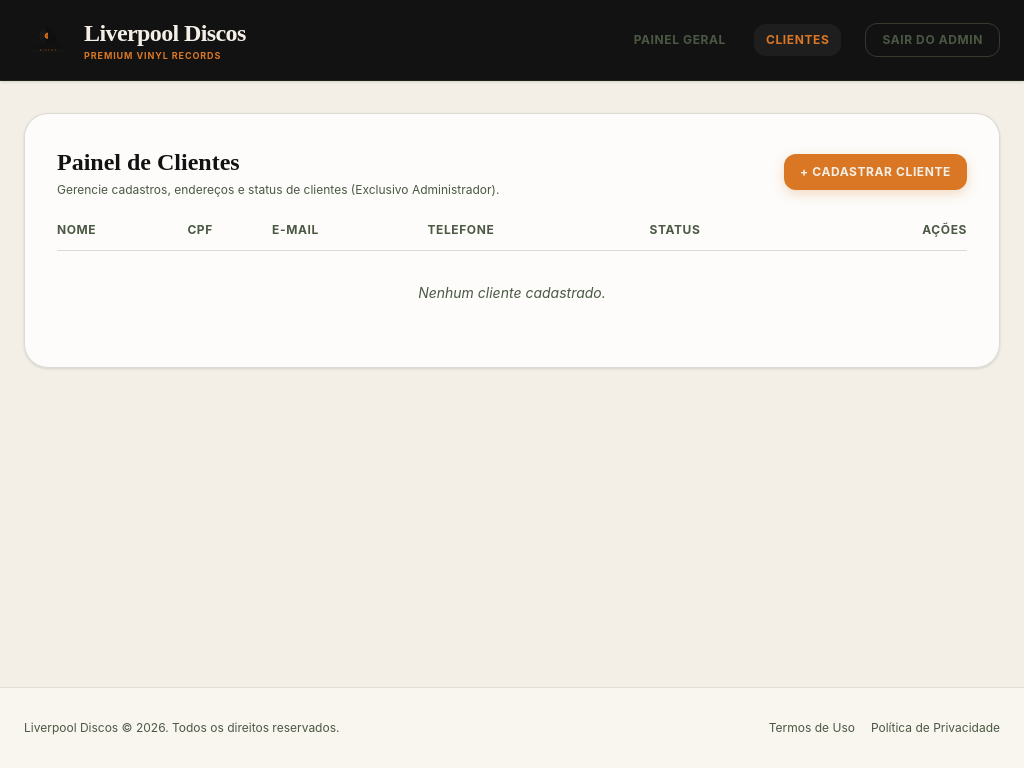
it: Customer CRUD - Painel de Clientes › Input Masking › should apply masks to CPF, phone, CEP, and card number in real-time
Click the button with test id "btn-new-customer" at (876, 172), box [784, 154, 967, 190]
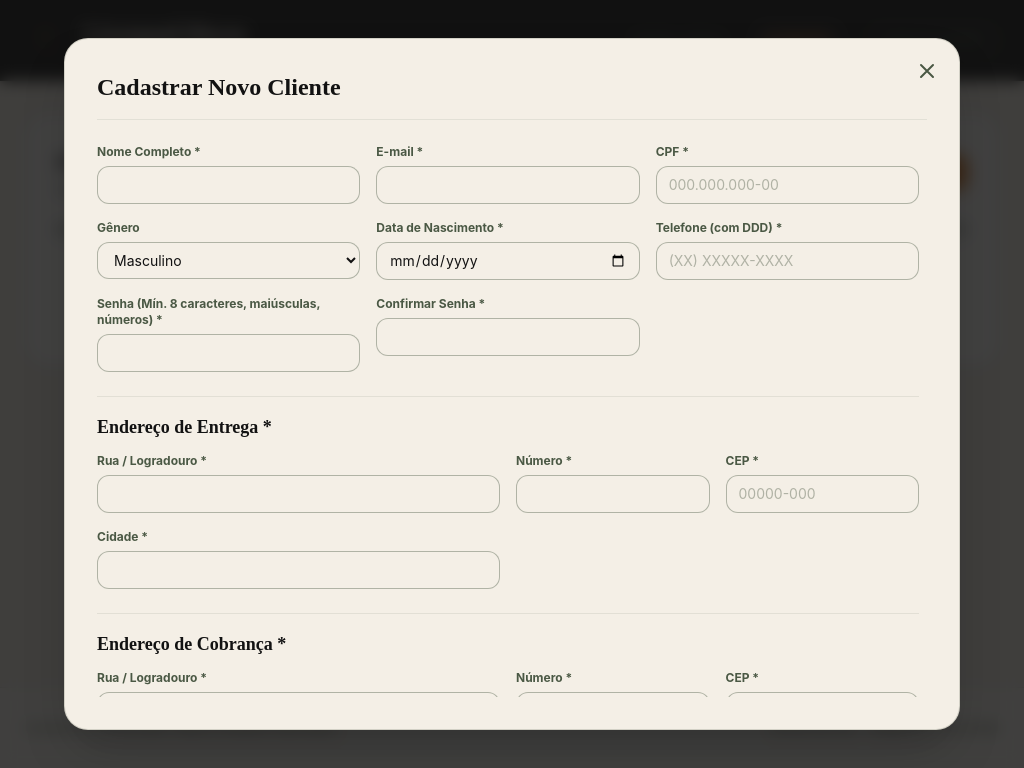
Expected: the field with test id "input-cpf" is shown
Type "12345678900" into the field with test id "input-cpf" at (788, 185), box [656, 166, 919, 204]
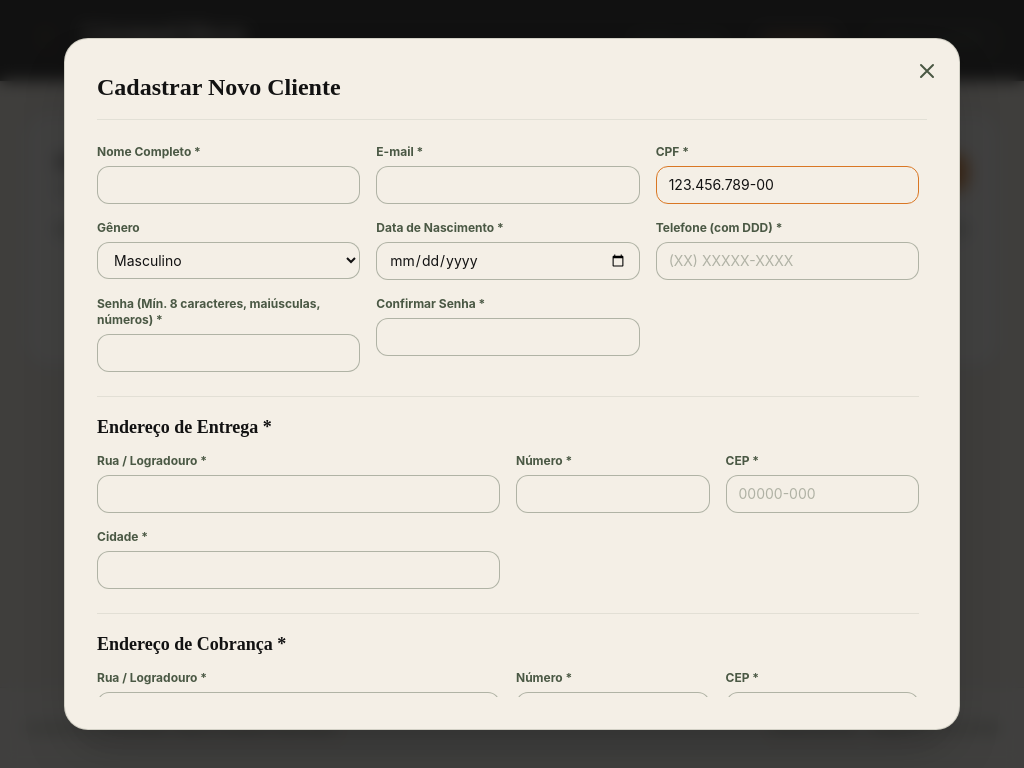
Expected: the field with test id "input-cpf" holds "123.456.789-00", [656, 166, 919, 204]
Type "11987654321" into the field with test id "input-phone" at (788, 261), box [656, 242, 919, 280]
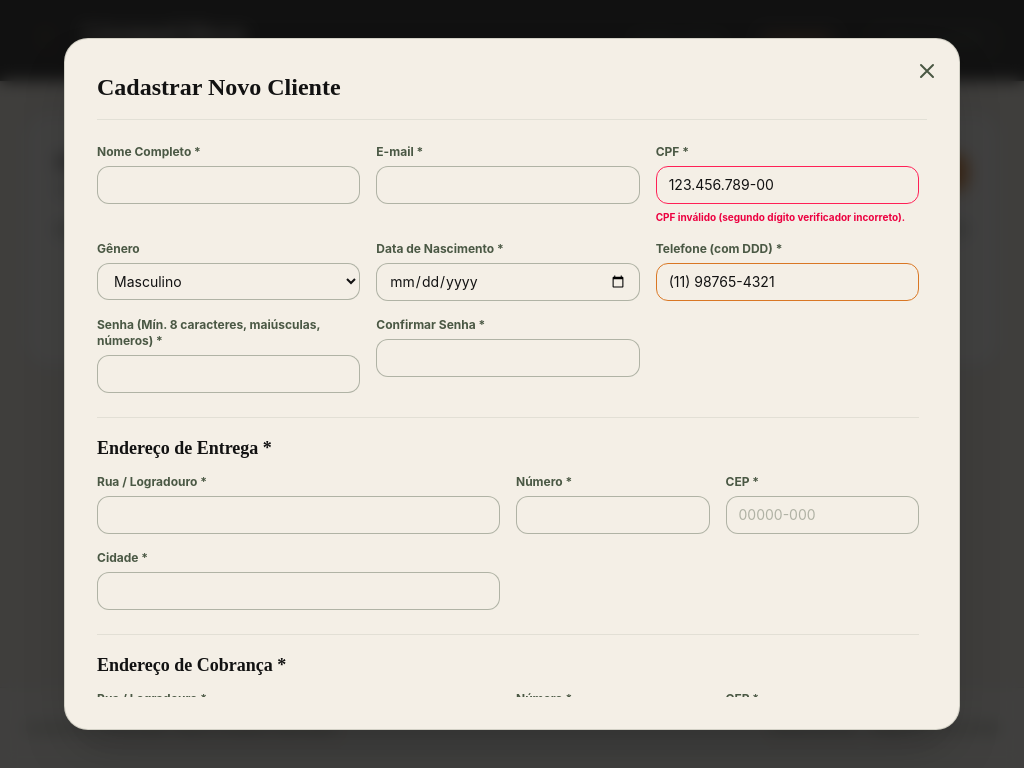
Expected: the field with test id "input-phone" holds "(11) 98765-4321", [656, 263, 919, 301]
Type "01310100" into the field with test id "input-deliv-cep" at (823, 515), box [726, 496, 920, 534]
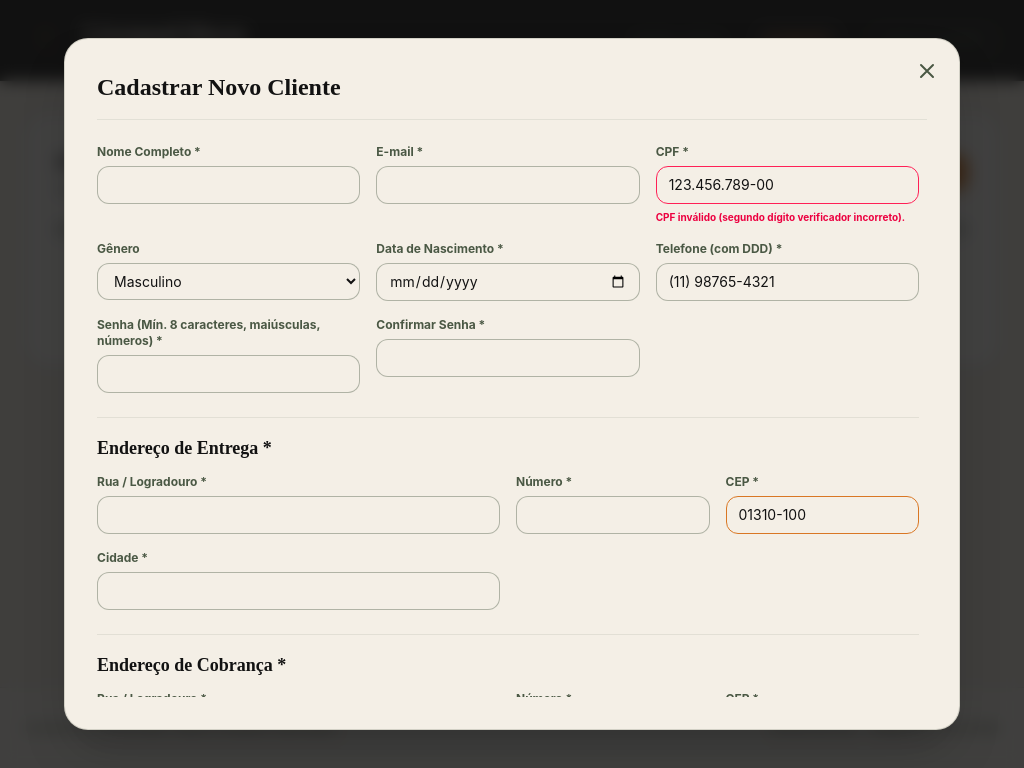
Expected: the field with test id "input-deliv-cep" holds "01310-100", [726, 496, 920, 534]
Scroll
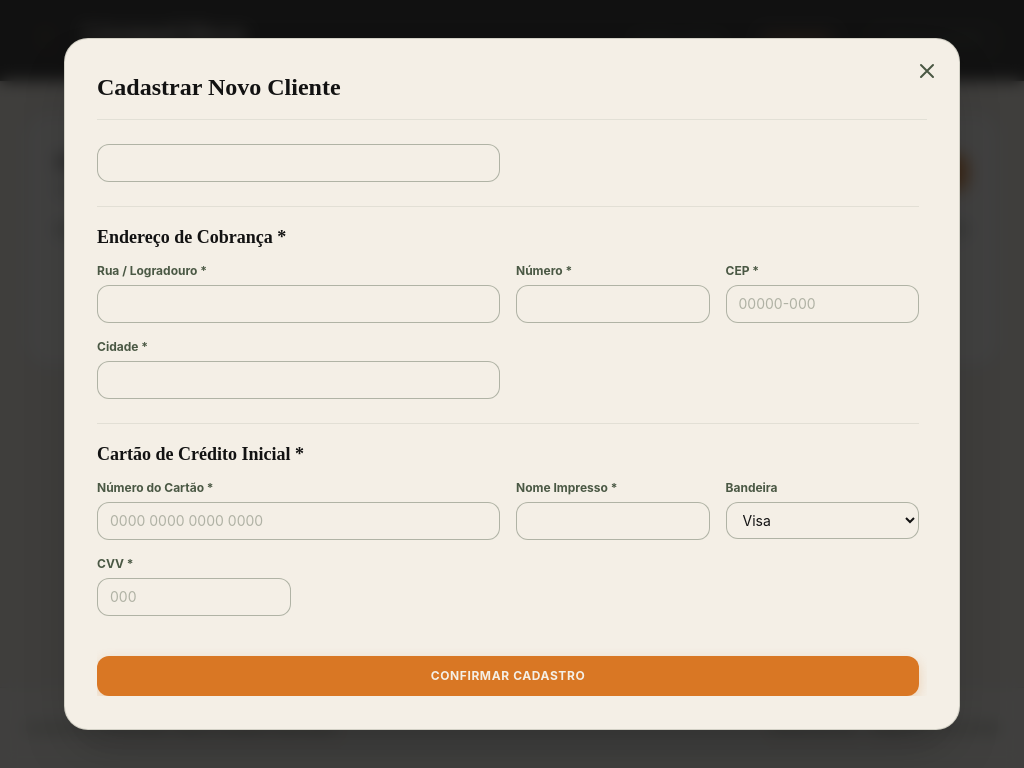
Type "4111111111111111" into the field with test id "input-card-number" at (299, 521), box [97, 502, 500, 540]
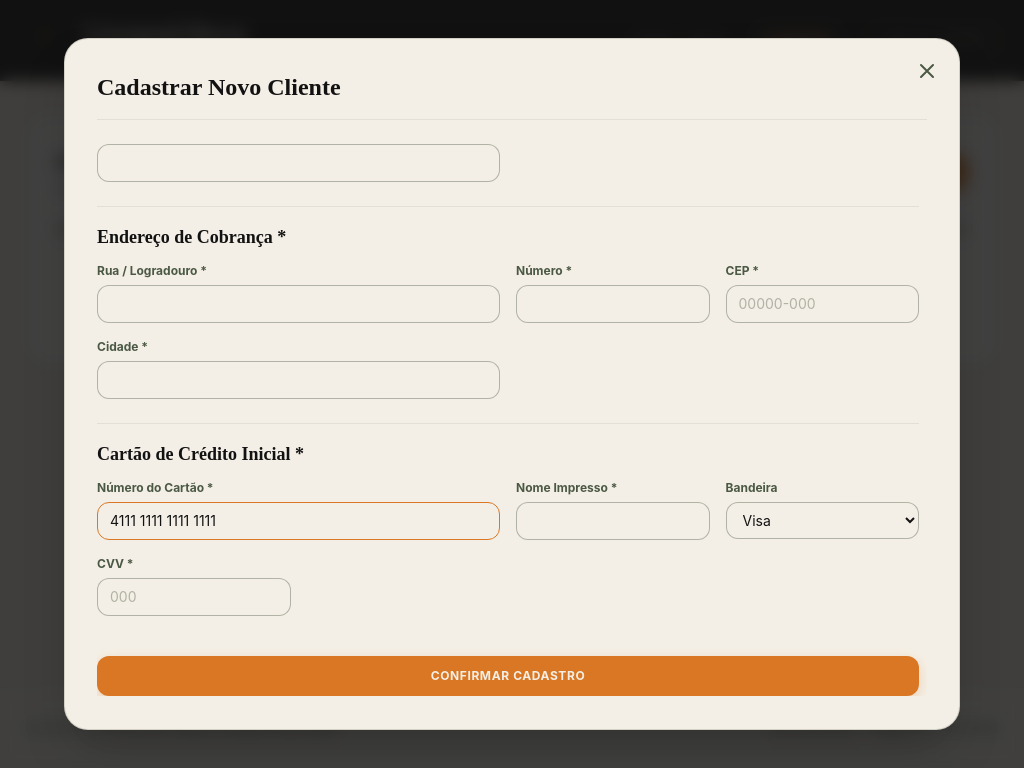
Expected: the dropdown with test id "select-card-brand" shows "Visa", [726, 502, 920, 539]
Expected: the field with test id "input-card-number" holds "4111 1111 1111 1111", [97, 502, 500, 540]
